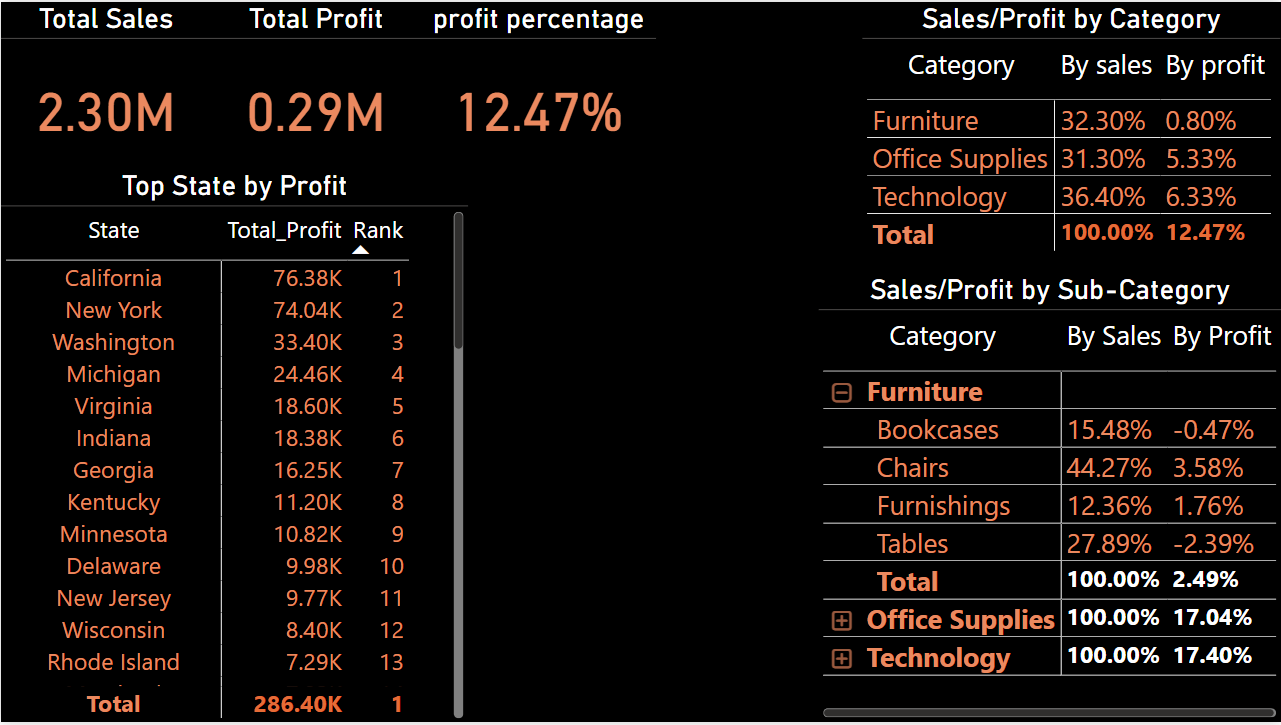

The page's visual inventory and layout, read from the dashboard file:
{"tool":"powerbi","page":{"name":"Page 1","canvas":[1280,720],"ordinal":0},"visuals":[{"type":"card","title":"Total Sales","fields":{"Values":["All Measures.Total_Sales"]},"box":[0,0,210,167.8],"z":0},{"type":"card","title":"Total Profit","fields":{"Values":["All Measures.Total_Profit"]},"box":[210,0,210,167.1],"z":1000},{"type":"card","title":" profit percentage","fields":{"Values":["All Measures.Sales/profit%"]},"box":[420,0,235,168.3],"z":2000},{"type":"pivotTable","title":"Top State by Profit","fields":{"Rows":["Store.State"],"Values":["All Measures.Total_Profit","All Measures.Rank"]},"box":[0,167.1,467.1,552.9],"z":3000},{"type":"pivotTable","title":"Sales/Profit by Category","fields":{"Rows":["Store.Category"],"Values":["All Measures.Contribution by sales","All Measures.Contribution by profit"]},"box":[861.7,0,418.3,271.7],"z":4000},{"type":"pivotTable","title":"Sales/Profit by Sub-Category","fields":{"Rows":["Store.Category","Store.Sub-Category"],"Values":["All Measures.Calculate 3","All Measures.Total Profit Contribution of each sub_Category"]},"box":[817.1,271.4,462.9,448.6],"z":5000}]}

Visuals, with their boxes in screenshot pixels (x1, y1, x2, y2), scaled from the page's 1280x720 canvas onto the 1281x725 screenshot:
"Total Sales" card: bbox(0, 0, 210, 169)
"Total Profit" card: bbox(210, 0, 420, 168)
" profit percentage" card: bbox(420, 0, 656, 169)
"Top State by Profit" pivotTable: bbox(0, 168, 467, 724)
"Sales/Profit by Category" pivotTable: bbox(862, 0, 1280, 274)
"Sales/Profit by Sub-Category" pivotTable: bbox(818, 273, 1280, 724)
